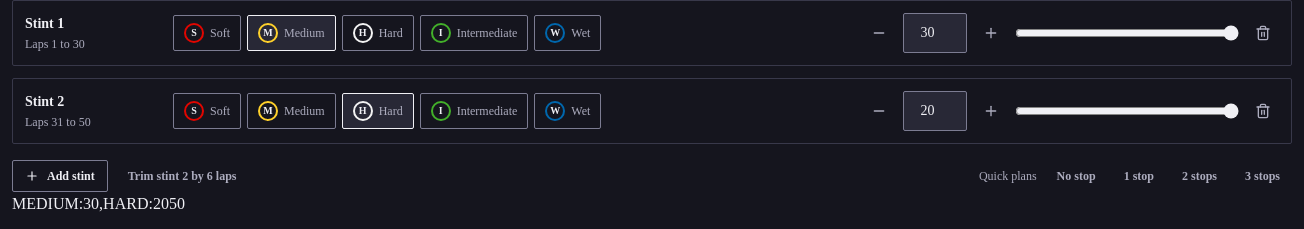
it: StintEditor › offers to trim an over-long plan from the last stint
What coordinates should you click on to do the following:
click the button "Trim stint 2 by 6 laps"
I would click on:
 (182, 176)
Its box is [116, 160, 248, 192].
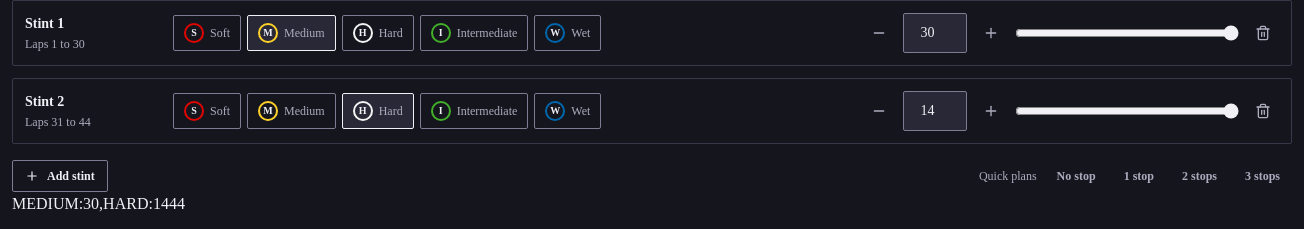
Expected: the text named "plan" reads "MEDIUM:30,HARD:14", [12, 195, 169, 212]
